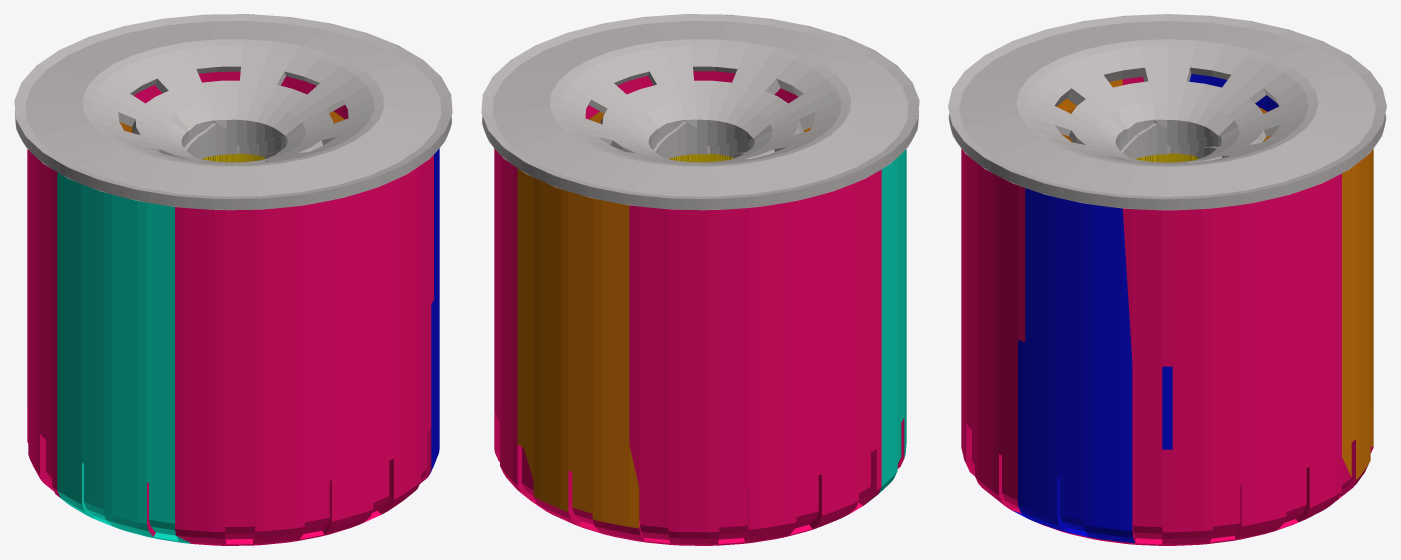
The model's file is filter2.gltf.
The picture shows the model from 3 angles, left to right: view 1: azimuth 30°, elevation 25°; view 2: azimuth 150°, elevation 25°; view 3: azimuth 270°, elevation 25°; orthographic projection.
Visible parts, largest first — view 1: obudowa, dekiel, filtr-wkład; view 2: obudowa, dekiel, filtr-wkład; view 3: obudowa, dekiel, filtr-wkład.
Boxes of the visible parts, x1,y1,x2,y2 form: obudowa: [27, 71, 439, 545]; dekiel: [14, 14, 452, 210]; filtr-wkład: [119, 111, 344, 162]; obudowa: [494, 71, 906, 545]; dekiel: [481, 14, 919, 210]; filtr-wkład: [589, 111, 811, 162]; obudowa: [961, 74, 1373, 545]; dekiel: [948, 14, 1386, 210]; filtr-wkład: [1061, 107, 1271, 162].
Size of the model in its own units: 2.12 by 2.03 by 2.12.
